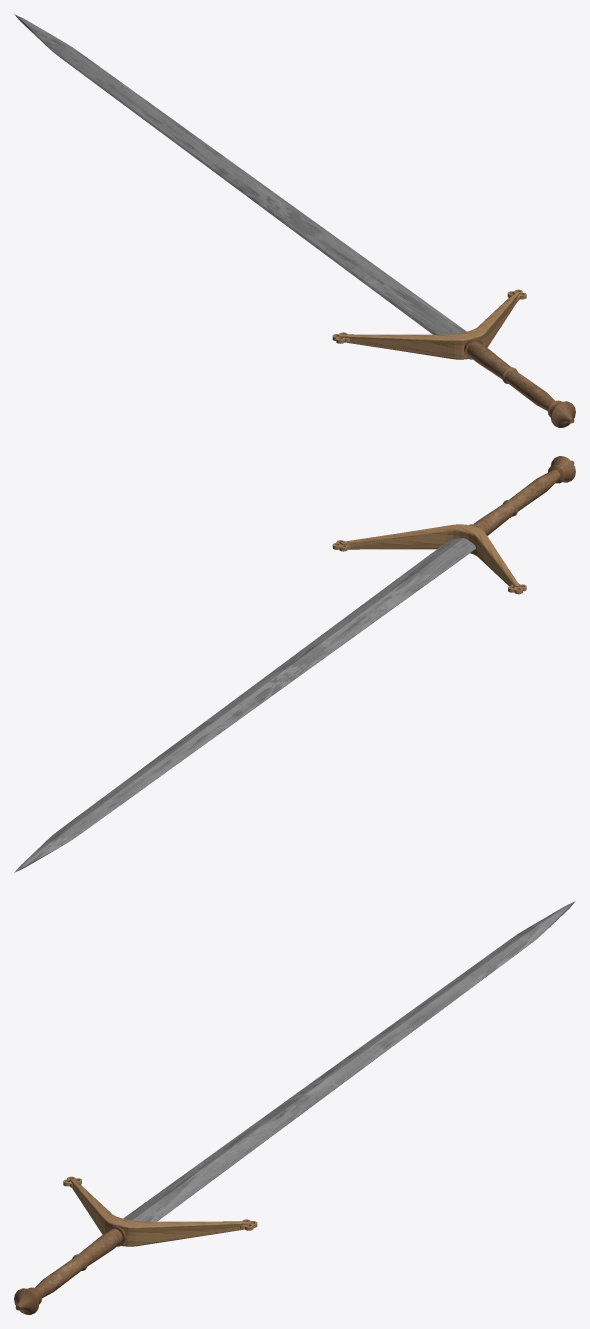
The model's file is Claymore.fbx.
The picture shows the model from 3 angles, top to bottom: view 1: azimuth 30°, elevation 25°; view 2: azimuth 150°, elevation 25°; view 3: azimuth 330°, elevation 25°; orthographic projection.
Visible parts, largest first — view 1: Torus.001; view 2: Torus.001; view 3: Torus.001.
Boxes of the visible parts, <box> form: Torus.001: <box>14,14,575,427</box>; Torus.001: <box>14,456,575,872</box>; Torus.001: <box>14,901,575,1314</box>.
Size of the model in its own units: 43.03 by 5.62 by 220.
